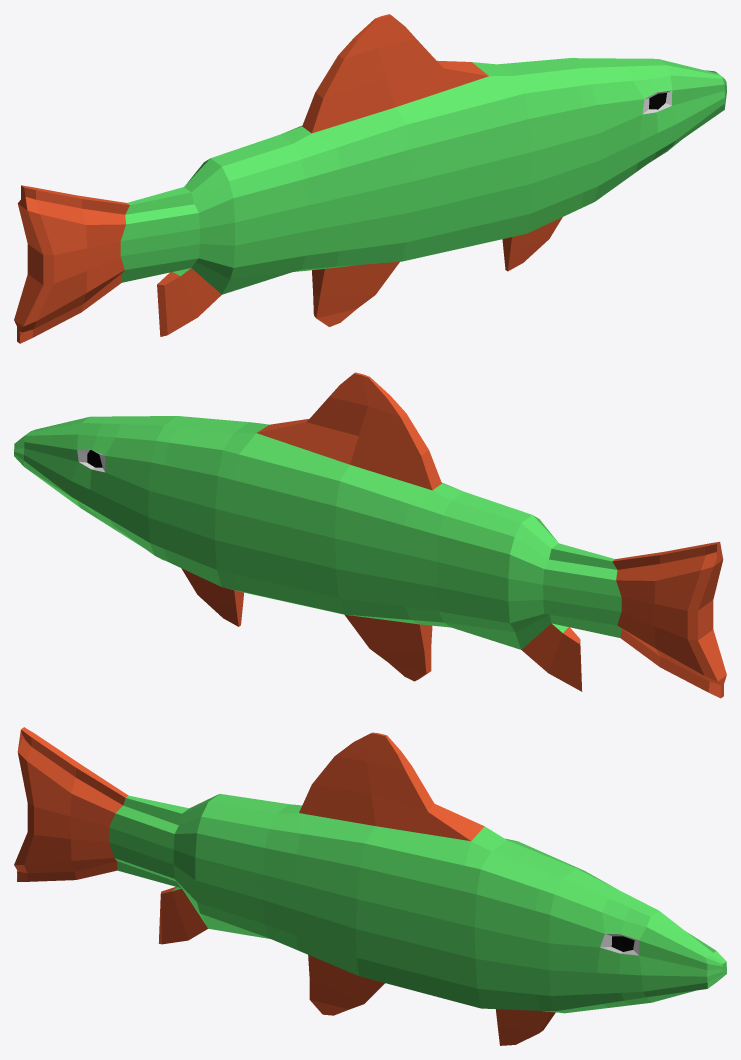
Rendered from Barracuda.fbx.
3 renders of one model, top to bottom at view 1: azimuth 30°, elevation 25°; view 2: azimuth 150°, elevation 25°; view 3: azimuth 330°, elevation 25°, orthographic.
Visible parts, largest first — view 1: Pececillo 2; view 2: Pececillo 2; view 3: Pececillo 2.
Part boxes in pixels (x1,y1,x2,y2): Pececillo 2: (14,14,726,343); Pececillo 2: (14,372,726,698); Pececillo 2: (14,727,726,1045).
Bounding box in the file's own units: 1968 × 784 × 247.
